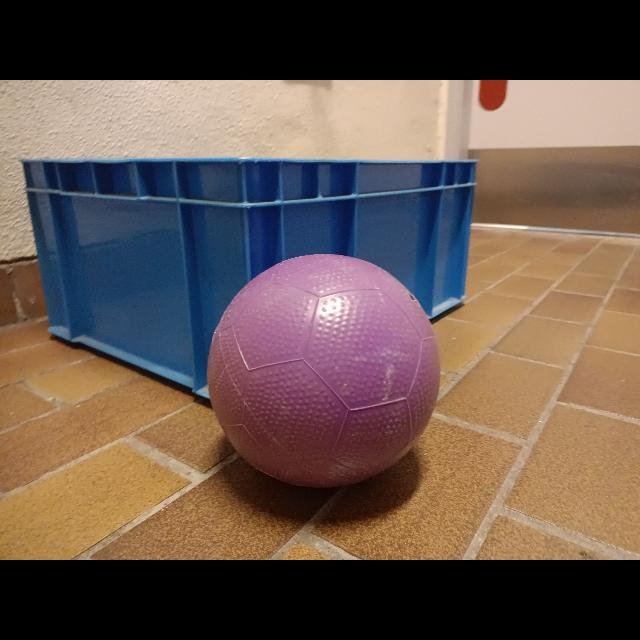P: (204, 252, 438, 488)
